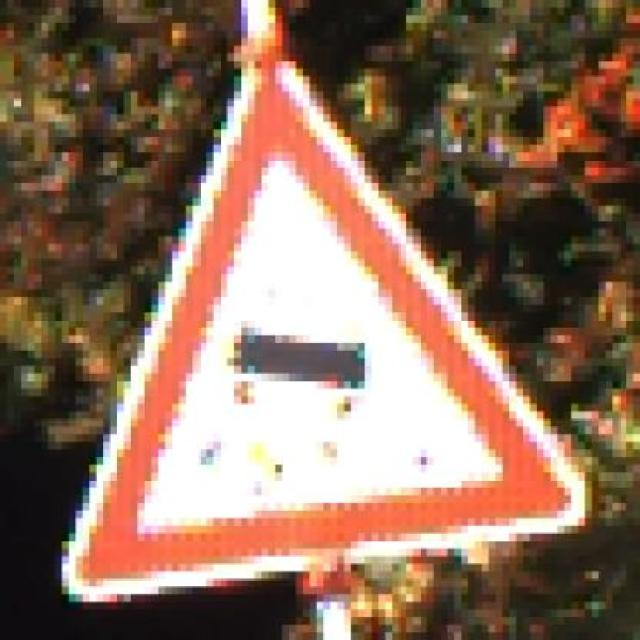Slippery Road Ahead: (62, 53, 592, 602)
